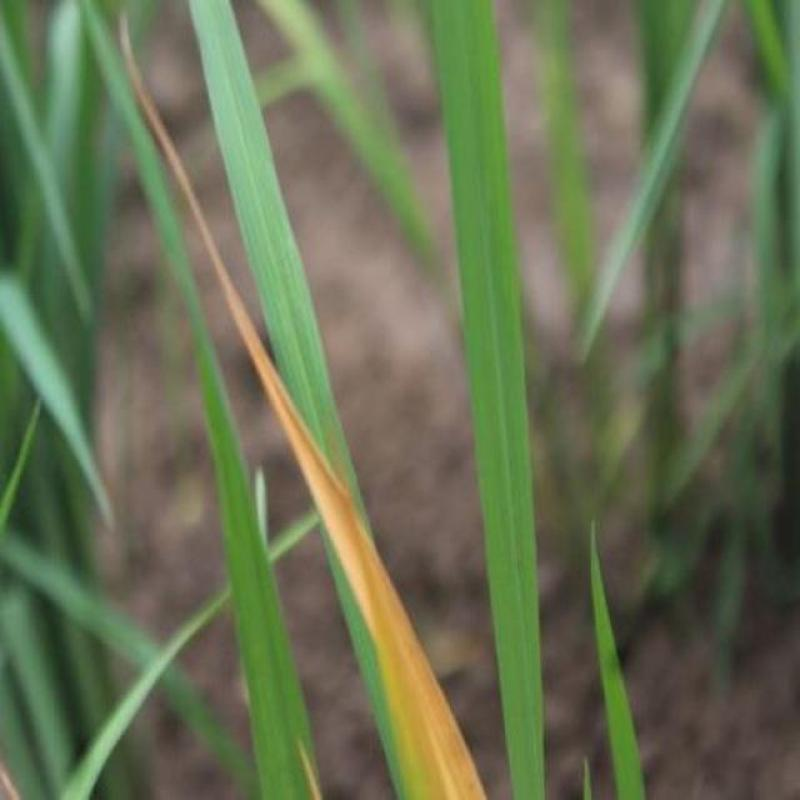Rice Tungro: (305, 448, 384, 648), (186, 224, 268, 398), (404, 636, 476, 800)
